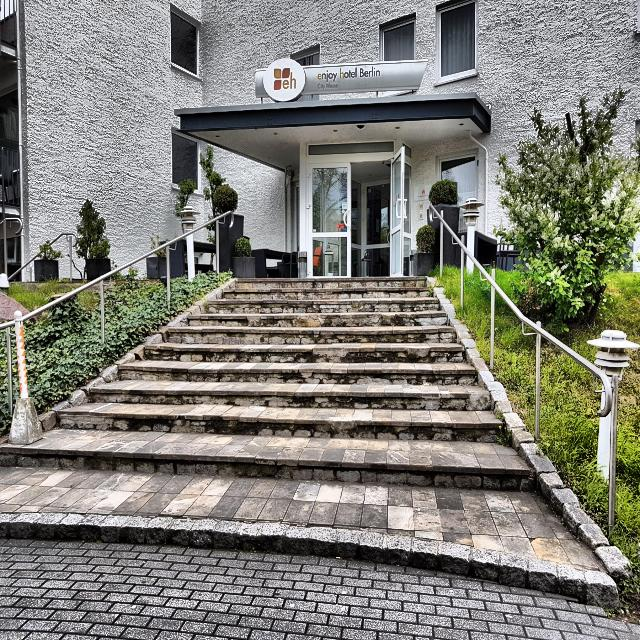escada: (1, 278, 536, 492)
